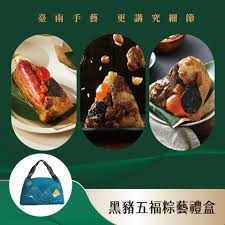zongzi: (151, 56, 211, 120), (12, 59, 72, 122), (85, 72, 141, 127)
